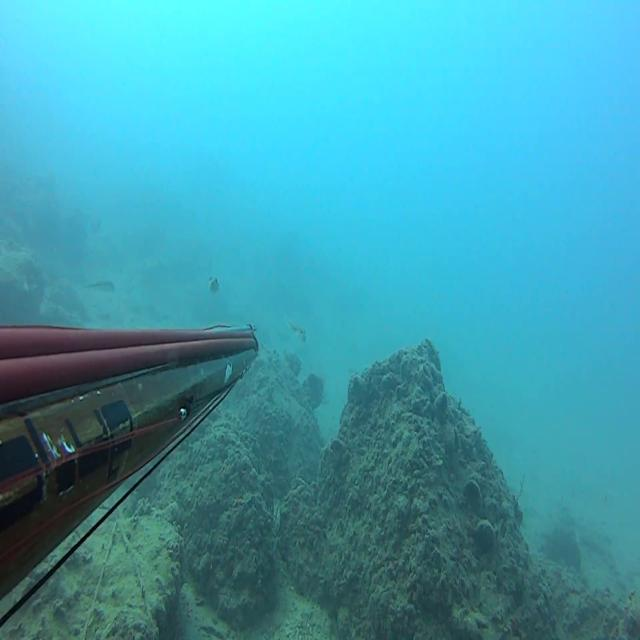Balon Baligi: (285, 317, 306, 343), (84, 281, 115, 293), (209, 276, 220, 293)
